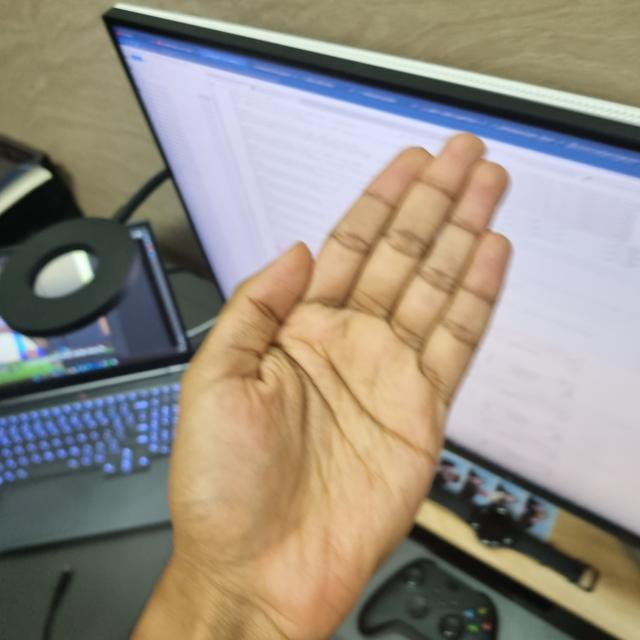Paper: (165, 131, 512, 628)
